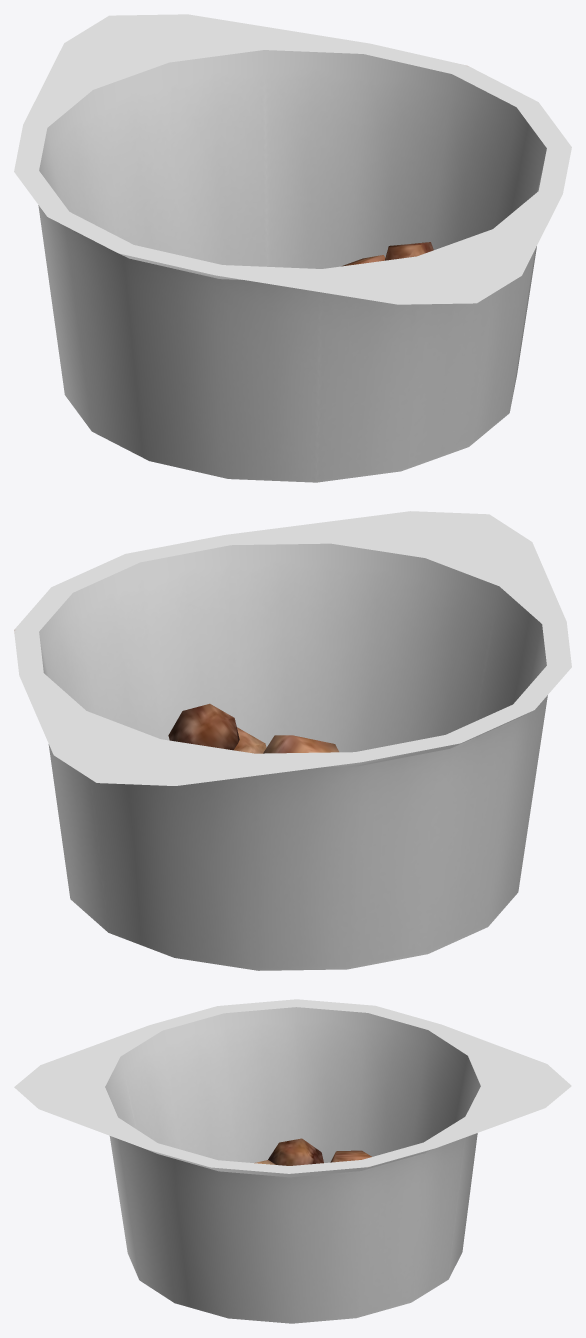
File: cupWhite.fbx
The picture shows the model from 3 angles, top to bottom: view 1: azimuth 30°, elevation 25°; view 2: azimuth 150°, elevation 25°; view 3: azimuth 270°, elevation 25°; orthographic projection. The views are drawn at different scales.
Parts seen in each view (by area): view 1: cupWhite; view 2: cupWhite; view 3: cupWhite.
Boxes of the visible parts, <box> form: cupWhite: <box>14,14,571,482</box>; cupWhite: <box>14,511,571,970</box>; cupWhite: <box>14,999,571,1323</box>.
Size of the model in its own units: 0.2275 by 0.1039 by 0.3074.
1 material, 1 textured.
